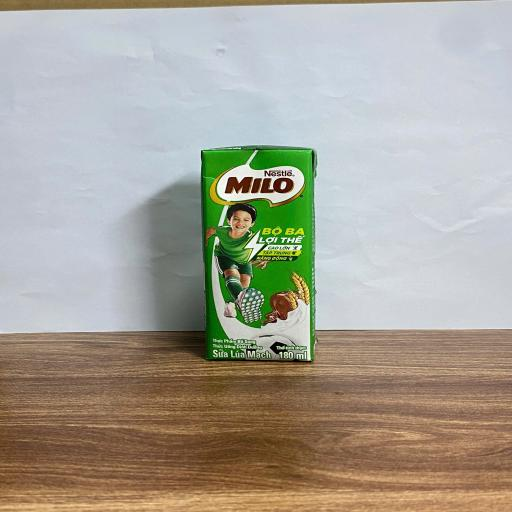milo: (203, 151, 317, 359)
